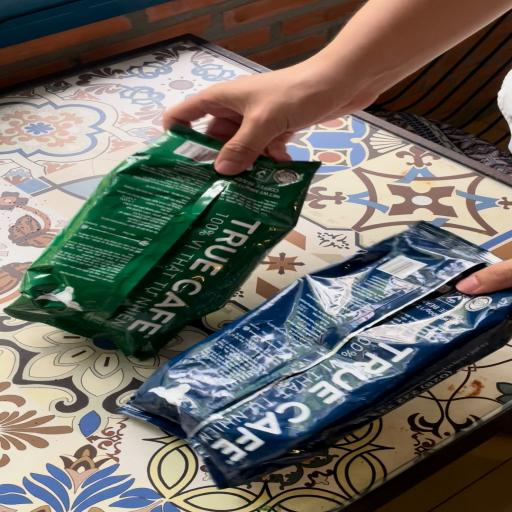cafe_hat: (121, 221, 512, 488)
cafe_xay: (6, 125, 320, 359)
